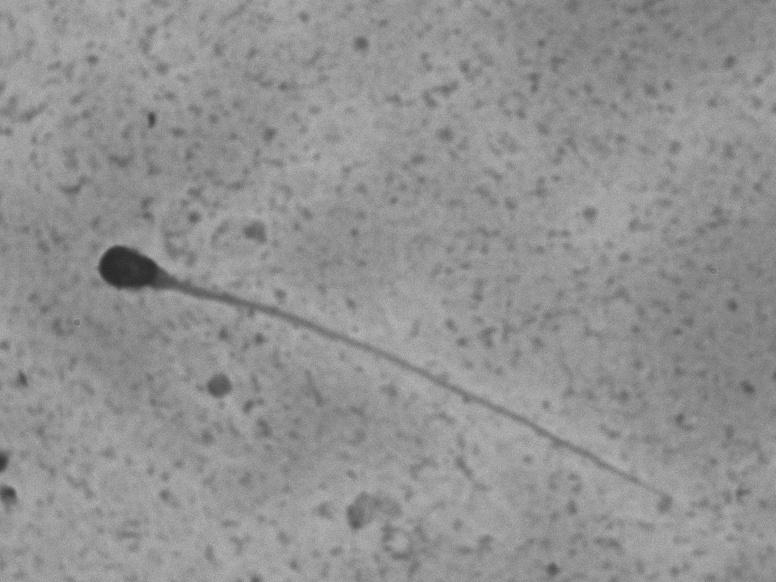Abnormal: (75, 233, 695, 523)
